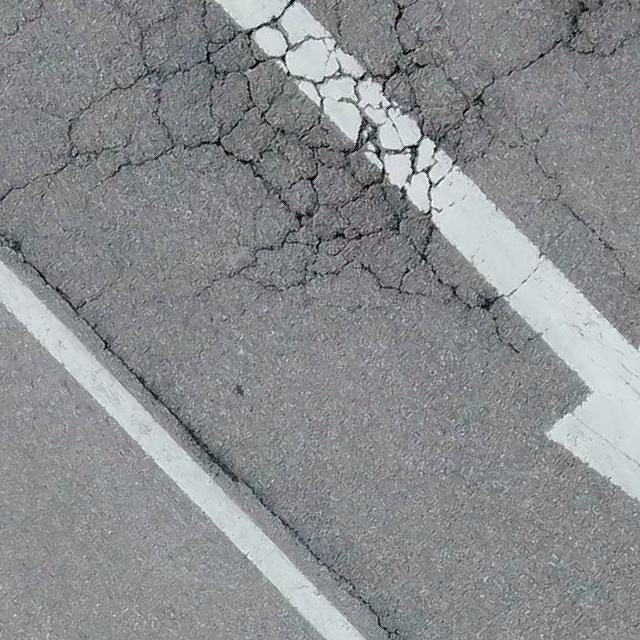GRIETA: (0, 232, 395, 639), (565, 203, 639, 293), (0, 166, 64, 202), (0, 0, 46, 38), (493, 317, 520, 353)
PIEL DE COCODRILO: (58, 0, 639, 316)
